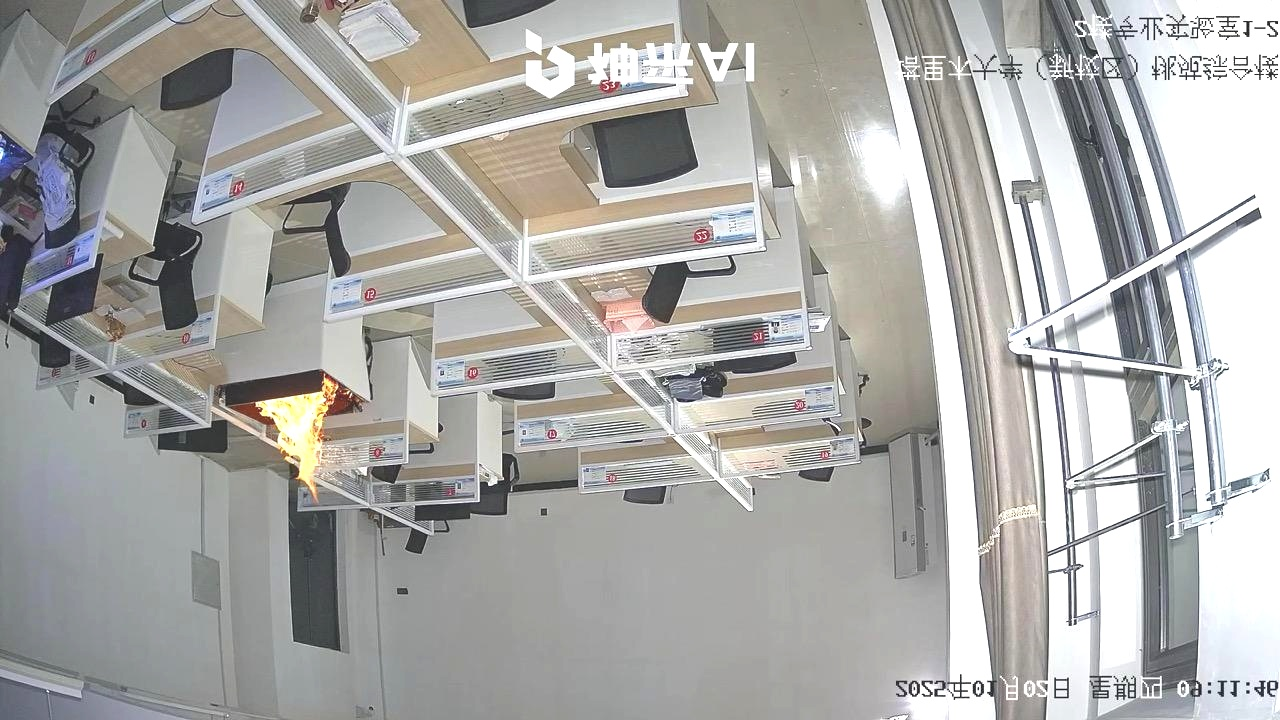fire: (244, 371, 367, 499)
